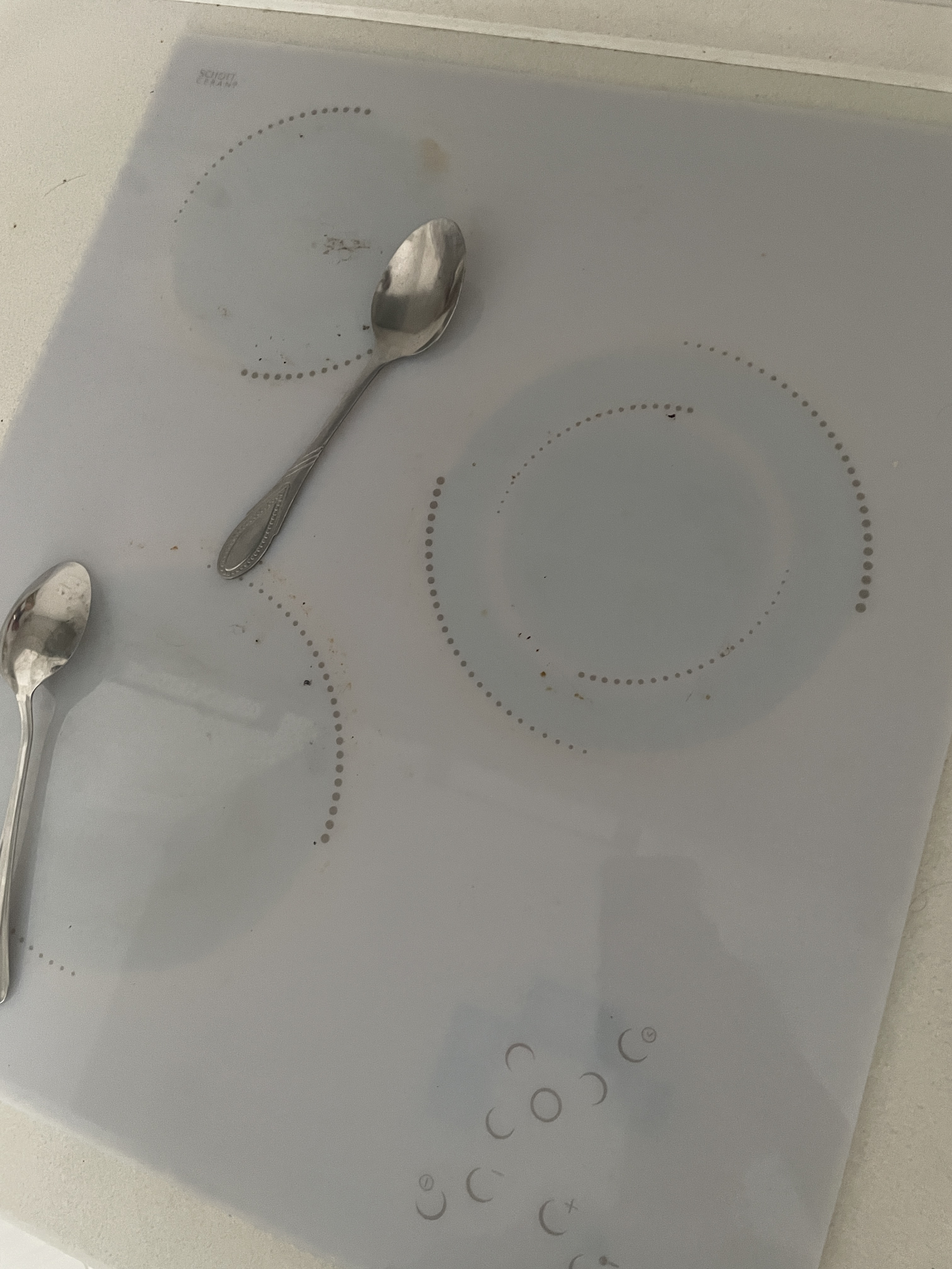spoon: (216, 218, 466, 580), (0, 561, 93, 1004)
